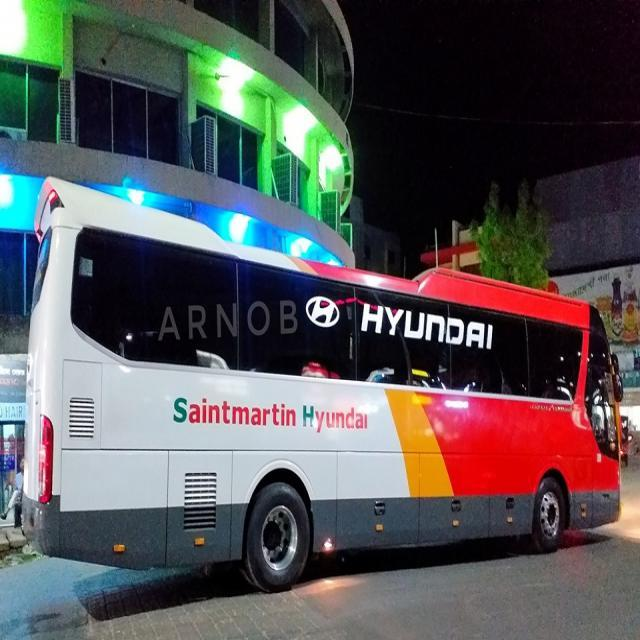Bus: (6, 158, 640, 601)
